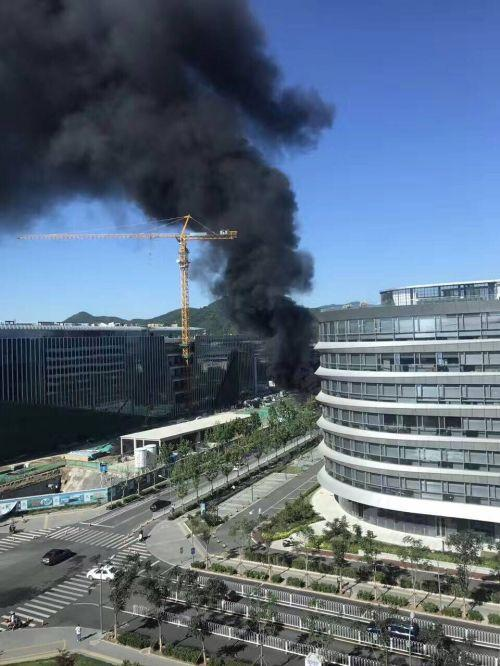smoke: (7, 6, 317, 227)
smoke1: (211, 240, 323, 400)
